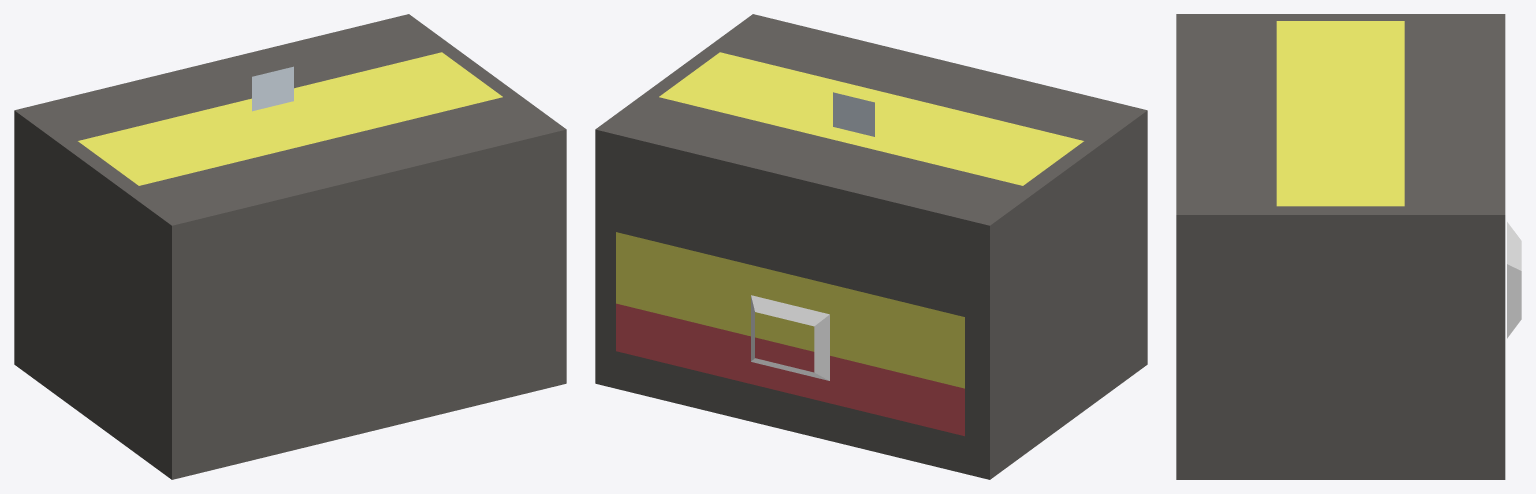
Rendered from nailbox.fbx.
3 renders of one model, left to right at view 1: azimuth 30°, elevation 25°; view 2: azimuth 150°, elevation 25°; view 3: azimuth 270°, elevation 25°, orthographic. The views are drawn at different scales.
Visible parts, largest first — view 1: NailBox_Body, Label_Top, NailBox_Window; view 2: NailBox_Body, Label_Front, Label_Top, Label_RedStripe, NailBox_Frame, NailBox_Window; view 3: NailBox_Body, Label_Top, NailBox_Frame.
Part boxes in pixels (x1=…): NailBox_Body: x1=14, y1=14, x2=566, y2=479; Label_Top: x1=78, y1=52, x2=502, y2=185; NailBox_Window: x1=252, y1=66, x2=293, y2=111; NailBox_Body: x1=595, y1=14, x2=1147, y2=479; Label_Front: x1=616, y1=232, x2=964, y2=388; Label_Top: x1=659, y1=52, x2=1083, y2=185; Label_RedStripe: x1=616, y1=303, x2=964, y2=436; NailBox_Frame: x1=751, y1=295, x2=829, y2=380; NailBox_Window: x1=833, y1=92, x2=874, y2=136; NailBox_Body: x1=1176, y1=14, x2=1505, y2=479; Label_Top: x1=1276, y1=21, x2=1404, y2=206; NailBox_Frame: x1=1507, y1=222, x2=1521, y2=338.
Bounding box in the file's own units: 260 × 182 × 189.
